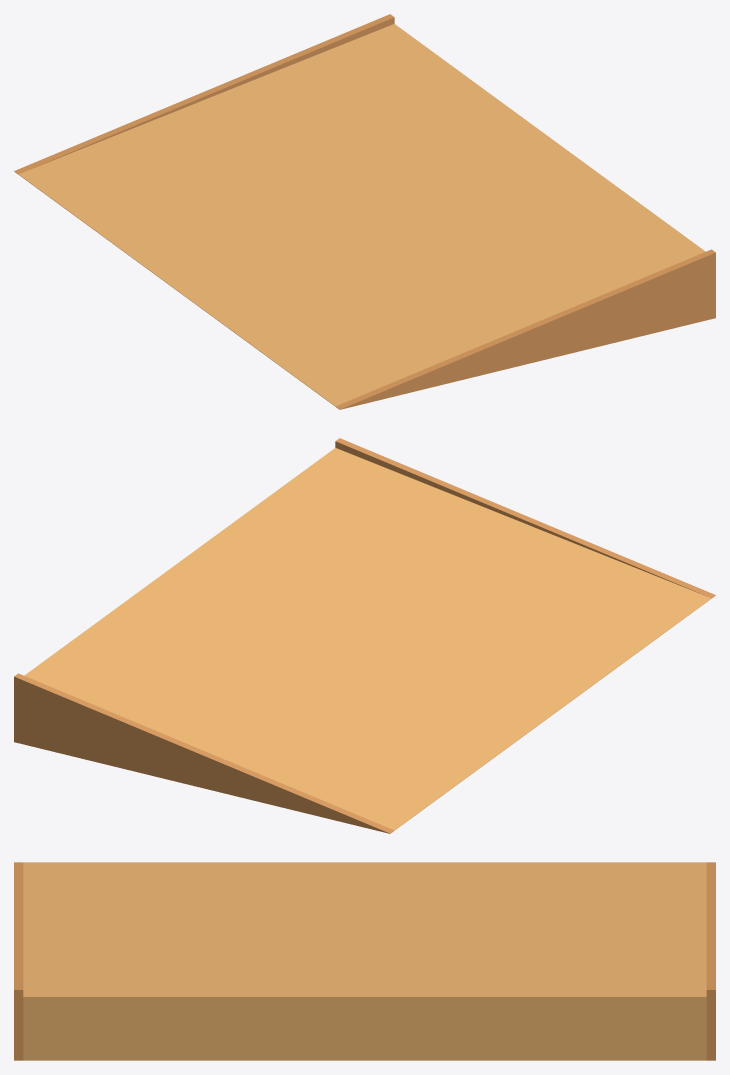
File: entry_ramp.glb
The picture shows the model from 3 angles, top to bottom: view 1: azimuth 30°, elevation 25°; view 2: azimuth 150°, elevation 25°; view 3: azimuth 270°, elevation 25°; orthographic projection. The views are drawn at different scales.
Bounding box in the file's own units: 0.6 × 0.1 × 0.9.
